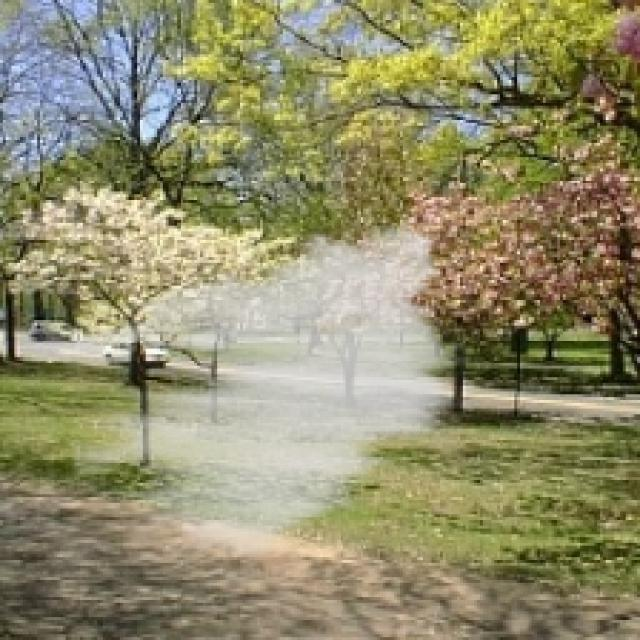smoke: (71, 206, 472, 571)
